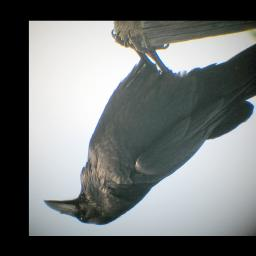Crow: (42, 29, 256, 227)
